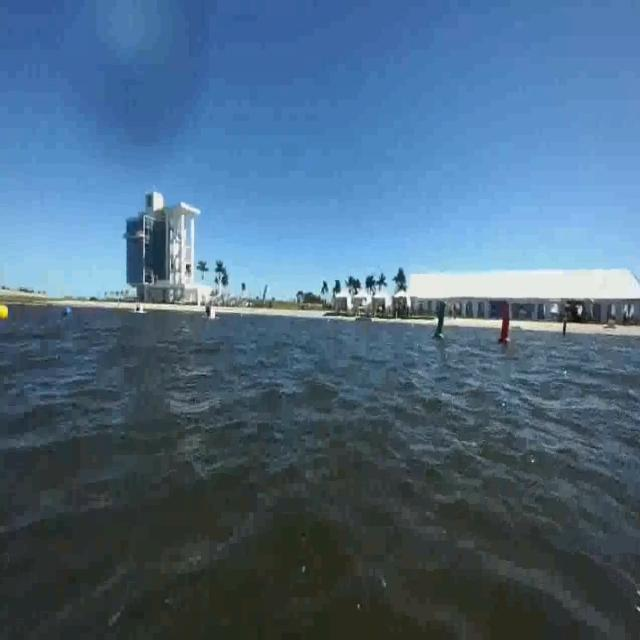green-column-buoy: (437, 299, 449, 352)
red-column-buoy: (497, 302, 516, 347)
yellow-buoy: (0, 303, 10, 323)
